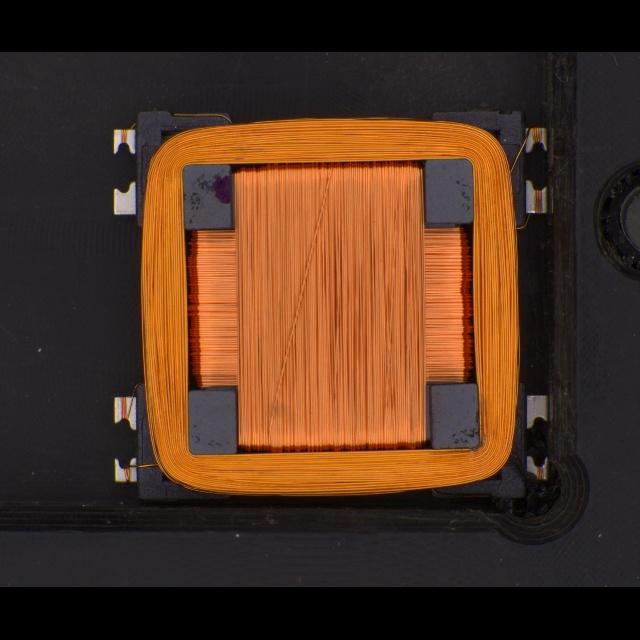Winding_Z: (127, 110, 524, 500)
